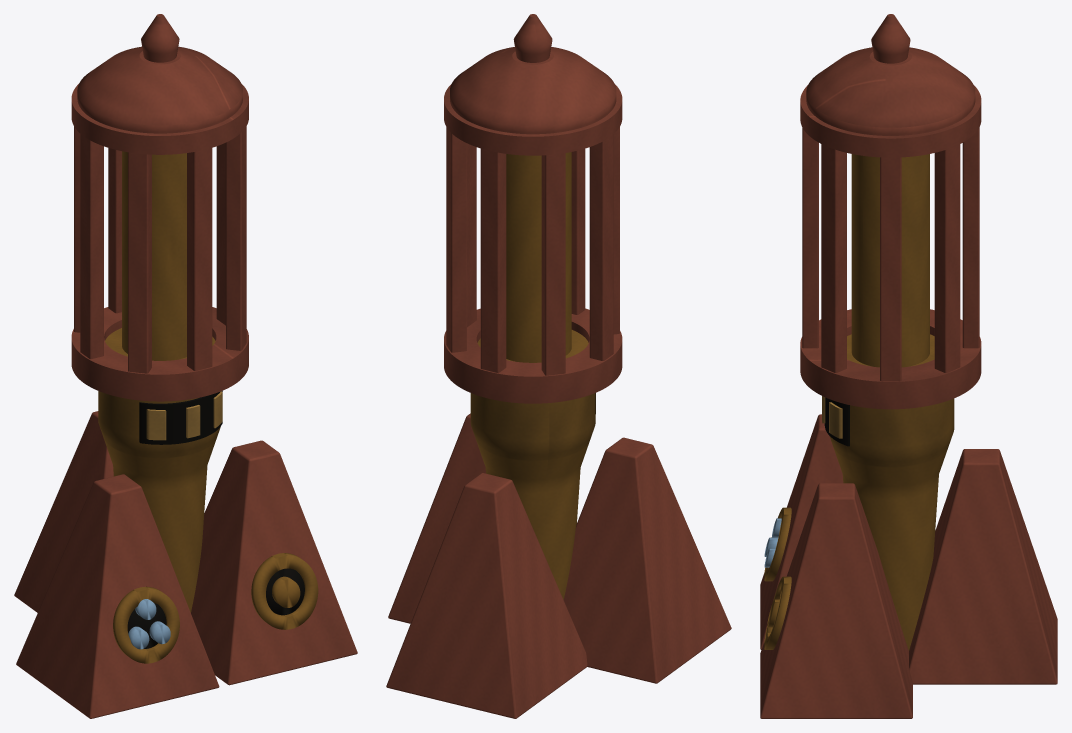
3 renders of one model, left to right at view 1: azimuth 30°, elevation 25°; view 2: azimuth 150°, elevation 25°; view 3: azimuth 270°, elevation 25°, orthographic. The views are drawn at different scales.
Visible parts, largest first — view 1: BR09 pyramidal support 0, BR09 pyramidal support 1, BR09 central lower neck, BR09 rounded rose cap, BR09 inner gold cylinder, BR09 lower open cage ring, BR09 pyramidal support 2, BR09 upper cage upright 6, BR09 upper cage upright 5, BR09 upper cage upright 4, BR09 upper cage upright 7, BR09 upper open cage ring (+11 smaller); view 2: BR09 pyramidal support 2, BR09 pyramidal support 0, BR09 central lower neck, BR09 rounded rose cap, BR09 inner gold cylinder, BR09 lower open cage ring, BR09 upper cage upright 2, BR09 upper cage upright 3, BR09 upper cage upright 4, BR09 pyramidal support 1, BR09 upper cage upright 1, BR09 upper open cage ring (+4 smaller); view 3: BR09 pyramidal support 1, BR09 pyramidal support 2, BR09 central lower neck, BR09 inner gold cylinder, BR09 rounded rose cap, BR09 lower open cage ring, BR09 upper cage upright 1, BR09 upper cage upright 7, BR09 upper cage upright 0, BR09 upper open cage ring, BR09 pyramidal support 0, BR09 upper cage upright 2 (+5 smaller).
Part boxes in pixels (<box>): BR09 pyramidal support 0: <box>16,474,219,718</box>; BR09 pyramidal support 1: <box>191,440,357,685</box>; BR09 central lower neck: <box>98,328,220,612</box>; BR09 rounded rose cap: <box>77,46,242,133</box>; BR09 inner gold cylinder: <box>122,151,186,360</box>; BR09 lower open cage ring: <box>71,307,248,401</box>; BR09 pyramidal support 2: <box>14,411,113,612</box>; BR09 upper cage upright 6: <box>187,148,212,370</box>; BR09 upper cage upright 5: <box>128,152,151,373</box>; BR09 upper cage upright 4: <box>80,134,103,359</box>; BR09 upper cage upright 7: <box>226,126,246,350</box>; BR09 upper open cage ring: <box>71,84,248,154</box>; BR09 pyramidal support 2: <box>386,473,587,718</box>; BR09 pyramidal support 0: <box>563,437,731,683</box>; BR09 central lower neck: <box>470,330,595,599</box>; BR09 rounded rose cap: <box>450,47,616,134</box>; BR09 inner gold cylinder: <box>506,152,571,362</box>; BR09 lower open cage ring: <box>444,308,622,403</box>; BR09 upper cage upright 2: <box>480,148,506,372</box>; BR09 upper cage upright 3: <box>541,153,565,375</box>; BR09 upper cage upright 4: <box>589,134,613,360</box>; BR09 pyramidal support 1: <box>388,413,485,623</box>; BR09 upper cage upright 1: <box>446,127,466,352</box>; BR09 upper open cage ring: <box>444,84,622,155</box>; BR09 pyramidal support 1: <box>760,483,912,718</box>; BR09 pyramidal support 2: <box>909,449,1057,684</box>; BR09 central lower neck: <box>829,334,954,650</box>; BR09 inner gold cylinder: <box>851,154,929,367</box>; BR09 rounded rose cap: <box>806,47,975,135</box>; BR09 lower open cage ring: <box>800,309,981,409</box>; BR09 upper cage upright 1: <box>934,144,960,372</box>; BR09 upper cage upright 7: <box>821,144,846,372</box>; BR09 upper cage upright 0: <box>880,157,901,381</box>; BR09 upper open cage ring: <box>800,85,981,157</box>; BR09 pyramidal support 0: <box>760,414,843,649</box>; BR09 upper cage upright 2: <box>962,127,979,348</box>.
Bounding box in the file's own units: 1.05 × 2.33 × 0.9864.
5 materials, 5 textured.
